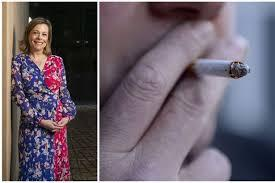smoke: (176, 59, 251, 79)
